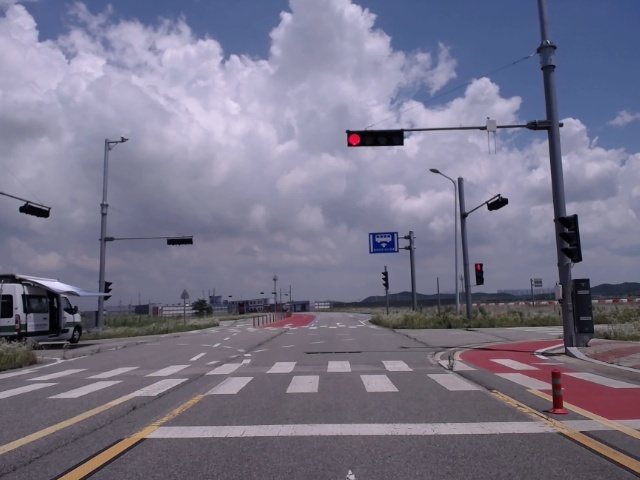red_4: (346, 129, 404, 148)
